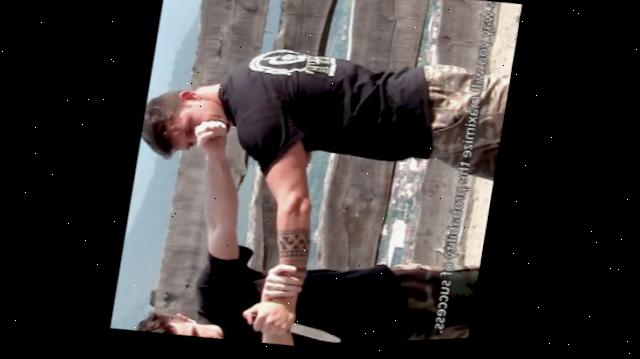pocket-knife: (243, 301, 350, 350)
